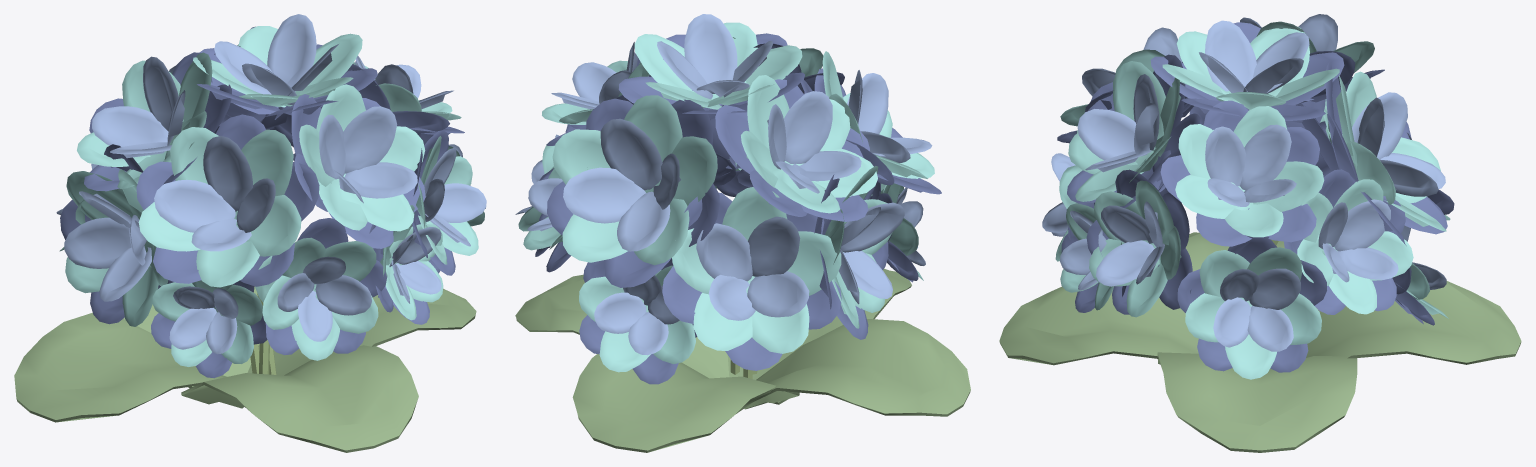
The model's file is flower3 1.fbx.
3 renders of one model, left to right at view 1: azimuth 30°, elevation 25°; view 2: azimuth 150°, elevation 25°; view 3: azimuth 270°, elevation 25°, orthographic. The views are drawn at different scales.
Parts seen in each view (by area): view 1: pPlane234, pPlane231, pPlane212 (×4), pPlane219 (×3), pPlane210 (×6), pPlane203 (×5), pPlane218 (×5), pPlane195 (×6), pPlane228 (×4), pPlane229 (×5), pPlane204 (×3), pPlane205 (×4) (+21 smaller); view 2: pPlane231, pPlane232, pPlane223 (×6), pPlane203 (×4), pPlane205 (×3), pPlane207 (×4), pPlane210 (×5), pPlane206 (×4), pPlane212 (×5), pPlane218 (×5), pPlane195 (×4), pPlane227 (×4) (+18 smaller); view 3: pPlane230, pPlane232, pPlane234, pPlane218 (×5), pPlane228 (×5), pPlane223 (×5), pPlane194 (×6), pPlane219 (×5), pPlane195 (×5), pPlane206 (×6), pPlane204 (×4), pPlane212 (×2) (+21 smaller).
Boxes of the visible parts, x1=… form: pPlane234: x1=181, y1=345, x2=418, y2=452; pPlane231: x1=14, y1=312, x2=226, y2=422; pPlane212 (×4): x1=64, y1=179, x2=314, y2=349; pPlane219 (×3): x1=143, y1=14, x2=397, y2=173; pPlane210 (×6): x1=117, y1=83, x2=421, y2=363; pPlane203 (×5): x1=79, y1=136, x2=486, y2=308; pPlane218 (×5): x1=99, y1=63, x2=444, y2=341; pPlane195 (×6): x1=138, y1=57, x2=416, y2=366; pPlane228 (×4): x1=241, y1=126, x2=478, y2=281; pPlane229 (×5): x1=66, y1=26, x2=472, y2=277; pPlane204 (×3): x1=92, y1=41, x2=456, y2=197; pPlane205 (×4): x1=212, y1=44, x2=371, y2=318; pPlane231: x1=735, y1=319, x2=970, y2=416; pPlane232: x1=572, y1=354, x2=799, y2=452; pPlane223 (×6): x1=528, y1=62, x2=904, y2=333; pPlane203 (×4): x1=563, y1=70, x2=880, y2=276; pPlane205 (×3): x1=684, y1=14, x2=888, y2=317; pPlane207 (×4): x1=599, y1=34, x2=841, y2=372; pPlane210 (×5): x1=653, y1=136, x2=934, y2=350; pPlane206 (×4): x1=562, y1=130, x2=918, y2=262; pPlane212 (×5): x1=599, y1=70, x2=910, y2=324; pPlane218 (×5): x1=623, y1=41, x2=932, y2=305; pPlane195 (×4): x1=634, y1=48, x2=823, y2=294; pPlane227 (×4): x1=547, y1=76, x2=755, y2=384; pPlane230: x1=1157, y1=352, x2=1357, y2=452; pPlane232: x1=1306, y1=281, x2=1521, y2=364; pPlane234: x1=999, y1=286, x2=1198, y2=365; pPlane218 (×5): x1=1077, y1=20, x2=1407, y2=248; pPlane228 (×5): x1=1126, y1=141, x2=1395, y2=379; pPlane223 (×5): x1=1085, y1=97, x2=1384, y2=347; pPlane194 (×6): x1=1075, y1=64, x2=1357, y2=342; pPlane219 (×5): x1=1134, y1=14, x2=1337, y2=351; pPlane195 (×5): x1=1113, y1=27, x2=1440, y2=280; pPlane206 (×6): x1=1066, y1=41, x2=1446, y2=344; pPlane204 (×4): x1=1060, y1=32, x2=1445, y2=309; pPlane212 (×2): x1=1240, y1=124, x2=1390, y2=251.
Size of the model in its own units: 1.66 by 1.31 by 1.66.
